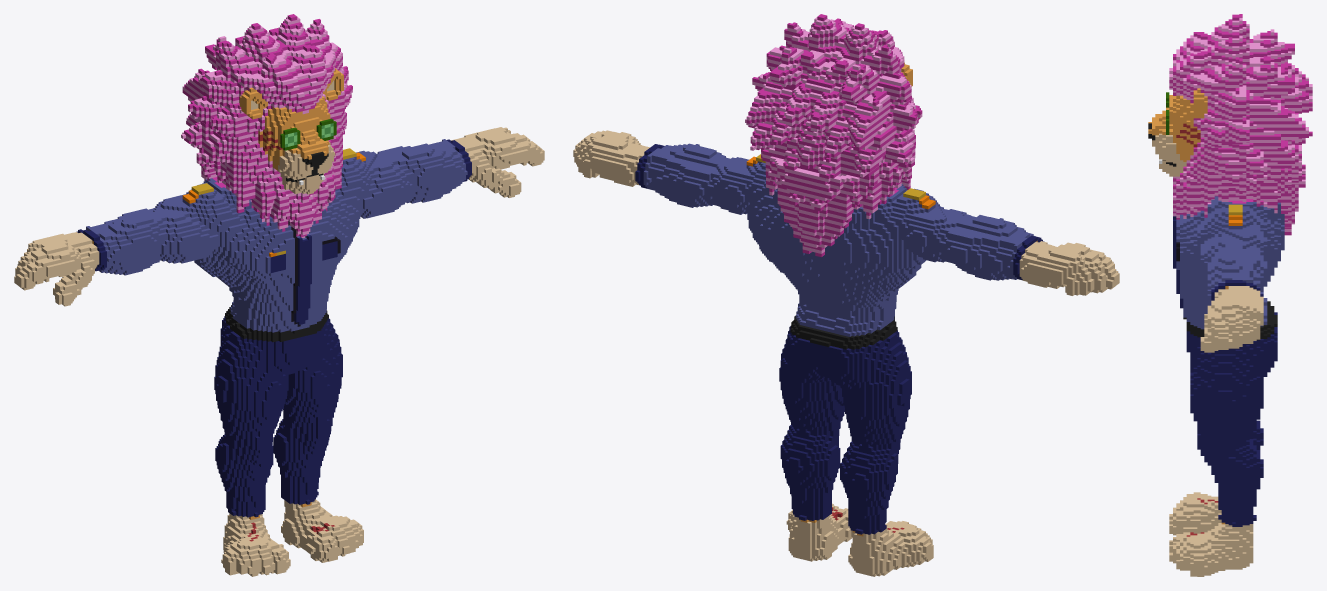
File: 610-BMkiWPVu.fbx
The picture shows the model from 3 angles, left to right: view 1: azimuth 30°, elevation 25°; view 2: azimuth 150°, elevation 25°; view 3: azimuth 270°, elevation 25°; orthographic projection. The views are drawn at different scales.
Visible parts, largest first — view 1: standard; view 2: standard; view 3: standard.
Part boxes in pixels (x1,y1,x2,y2): standard: [14, 14, 544, 576]; standard: [573, 14, 1119, 576]; standard: [1148, 14, 1312, 576].
Size of the model in its own units: 17.2 by 16.5 by 4.7.
5 materials, 5 textured.
